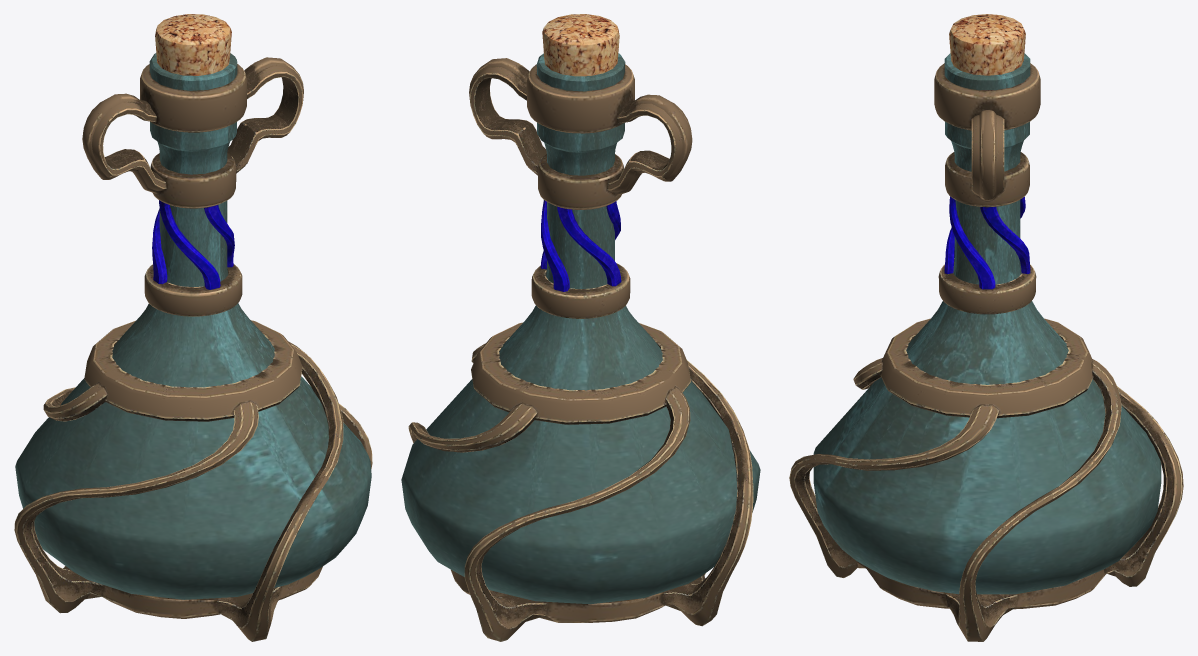
The model's file is mana.fbx.
3 renders of one model, left to right at view 1: azimuth 30°, elevation 25°; view 2: azimuth 150°, elevation 25°; view 3: azimuth 270°, elevation 25°, orthographic.
Parts seen in each view (by area): view 1: mana; view 2: mana; view 3: mana.
Boxes of the visible parts, bbox=[...] form: mana: bbox=[14, 14, 372, 641]; mana: bbox=[401, 14, 760, 641]; mana: bbox=[789, 14, 1183, 641].
Bounding box in the file's own units: 0.2617 × 0.4073 × 0.263.
